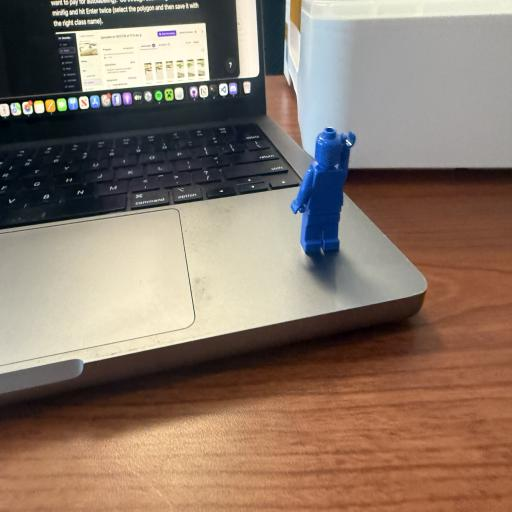Minifig: (291, 127, 356, 253)
